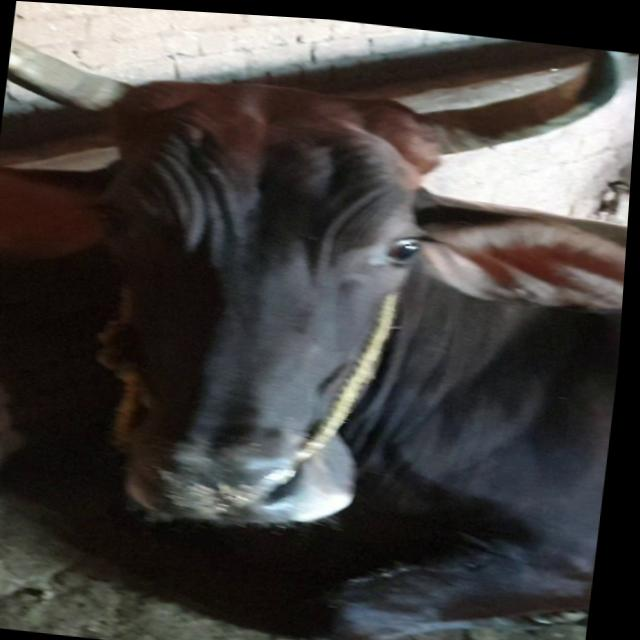cowFace: (44, 46, 478, 542)
